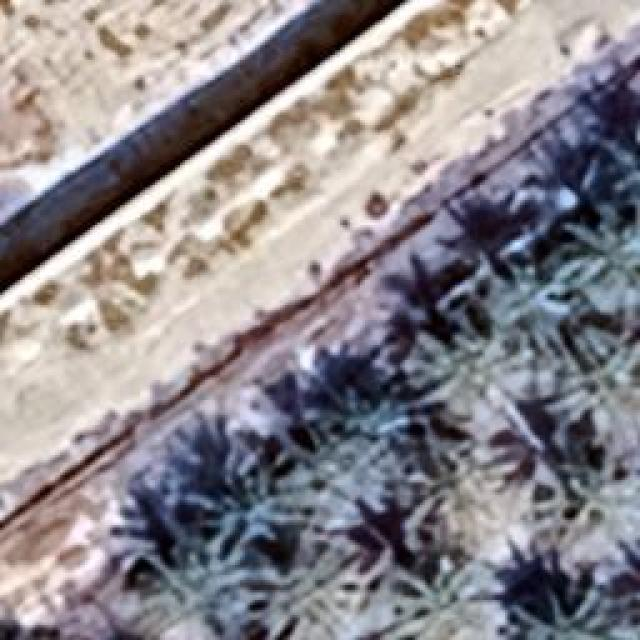PalmTree: (80, 78, 357, 426), (278, 382, 400, 528), (402, 330, 530, 428), (392, 440, 502, 550), (138, 532, 252, 638), (550, 328, 638, 462), (178, 456, 288, 552), (385, 552, 500, 638), (268, 547, 373, 640), (558, 457, 638, 565), (560, 202, 638, 300), (500, 582, 635, 638), (0, 610, 70, 640)
